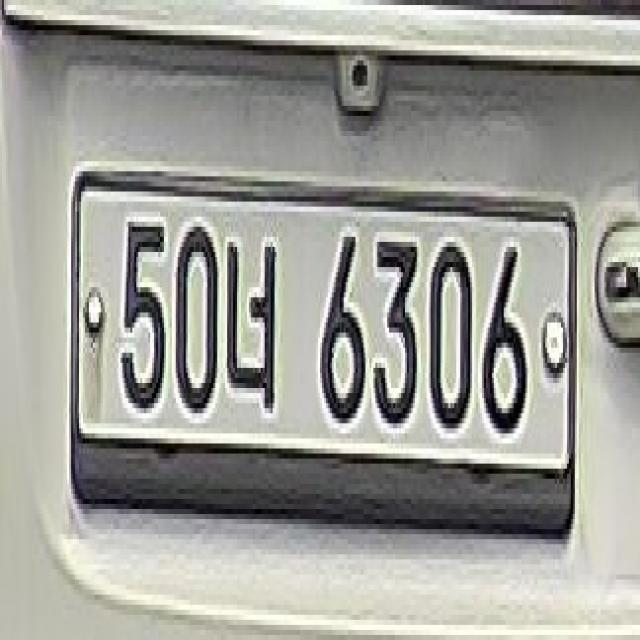0: (426, 238, 478, 441), (173, 215, 220, 428)
3: (372, 231, 419, 434)
5: (116, 206, 169, 422)
6: (314, 223, 369, 443), (482, 238, 531, 450)
license_plate: (62, 173, 582, 528)
neo: (224, 230, 284, 430)
